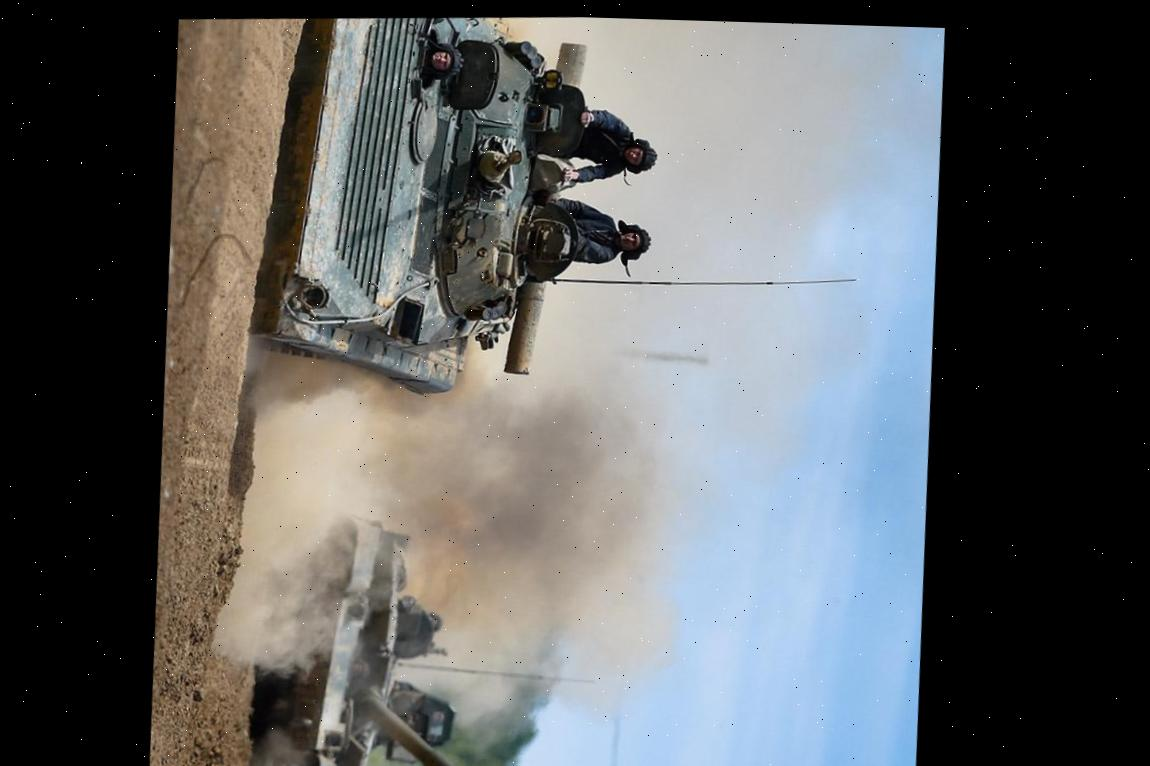tank: (246, 8, 631, 413), (229, 499, 524, 766)
